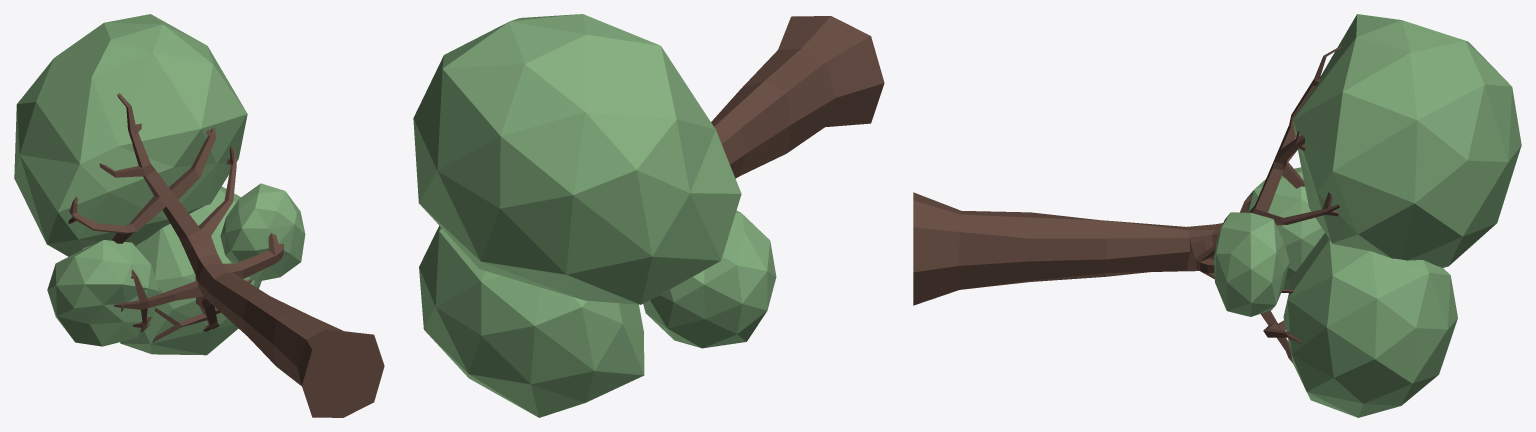
File: Lepsze_drzewo.fbx
3 renders of one model, left to right at view 1: azimuth 30°, elevation 25°; view 2: azimuth 150°, elevation 25°; view 3: azimuth 270°, elevation 25°, orthographic. The views are drawn at different scales.
Visible parts, largest first — view 1: Icosphere; view 2: Icosphere; view 3: Icosphere.
Boxes of the visible parts, x1=… form: Icosphere: x1=14, y1=14, x2=384, y2=417; Icosphere: x1=413, y1=14, x2=884, y2=417; Icosphere: x1=913, y1=14, x2=1521, y2=417.
Bounding box in the file's own units: 915 × 1169 × 1802.
